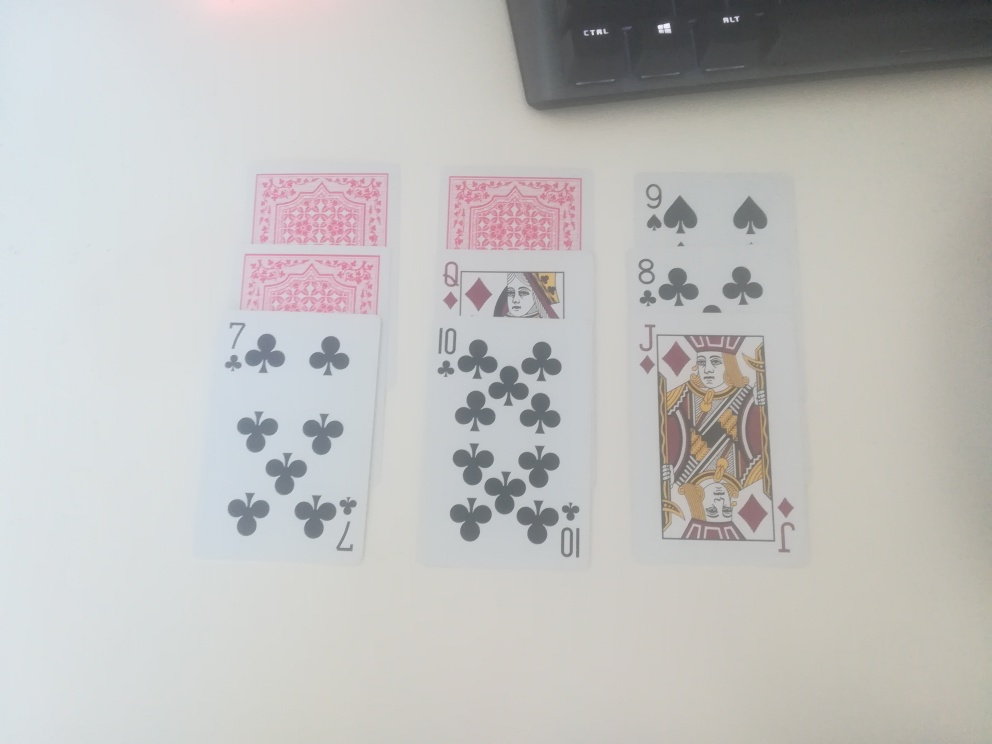10C: (430, 324, 462, 381)
7C: (222, 317, 249, 375)
8C: (632, 256, 661, 312)
9S: (634, 181, 671, 235)
BACK: (448, 175, 588, 252), (253, 175, 389, 248), (241, 252, 386, 317)
JD: (634, 318, 659, 380)
QD: (436, 259, 465, 314)
